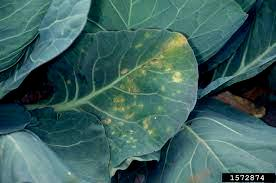Bok-Choy-Diseased: (41, 30, 200, 167)
